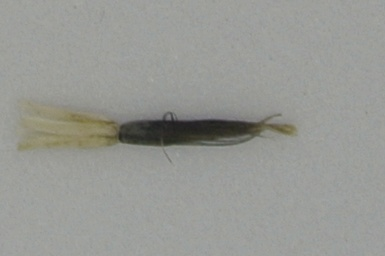เมล้ดปลายพู่กัน: (15, 99, 299, 166)
